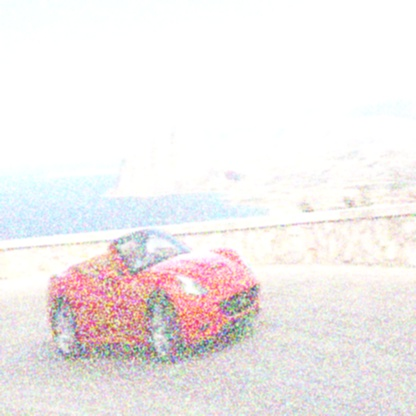Vehicle: (47, 228, 261, 366)
